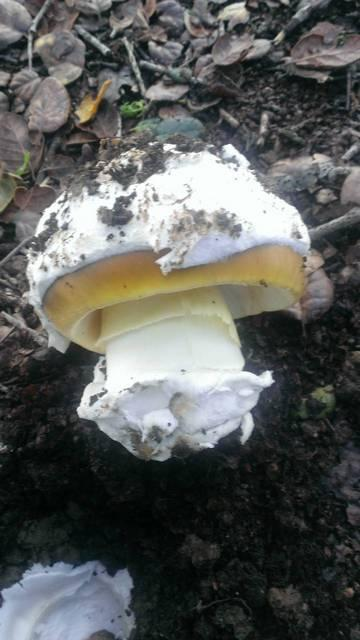edible_mushroom: (23, 135, 311, 462)
